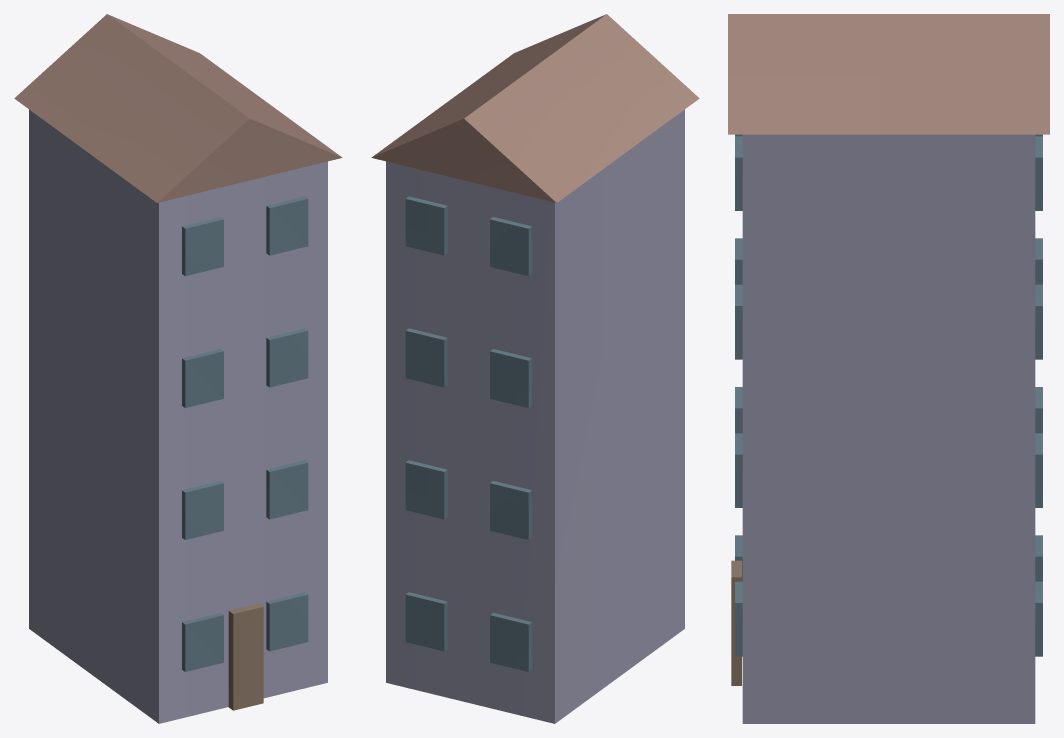
Rendered from townhouse-03.glb.
3 views of the same model, side by side, from view 1: azimuth 30°, elevation 25°; view 2: azimuth 150°, elevation 25°; view 3: azimuth 270°, elevation 25° (orthographic). The views are drawn at different scales.
Parts seen in each view (by area): view 1: world; view 2: world; view 3: world.
Part boxes in pixels (x1=…): world: x1=14, y1=14, x2=342, y2=723; world: x1=371, y1=14, x2=699, y2=723; world: x1=728, y1=14, x2=1049, y2=723.
Bounding box in the file's own units: 0.8046 × 2.44 × 1.07.
